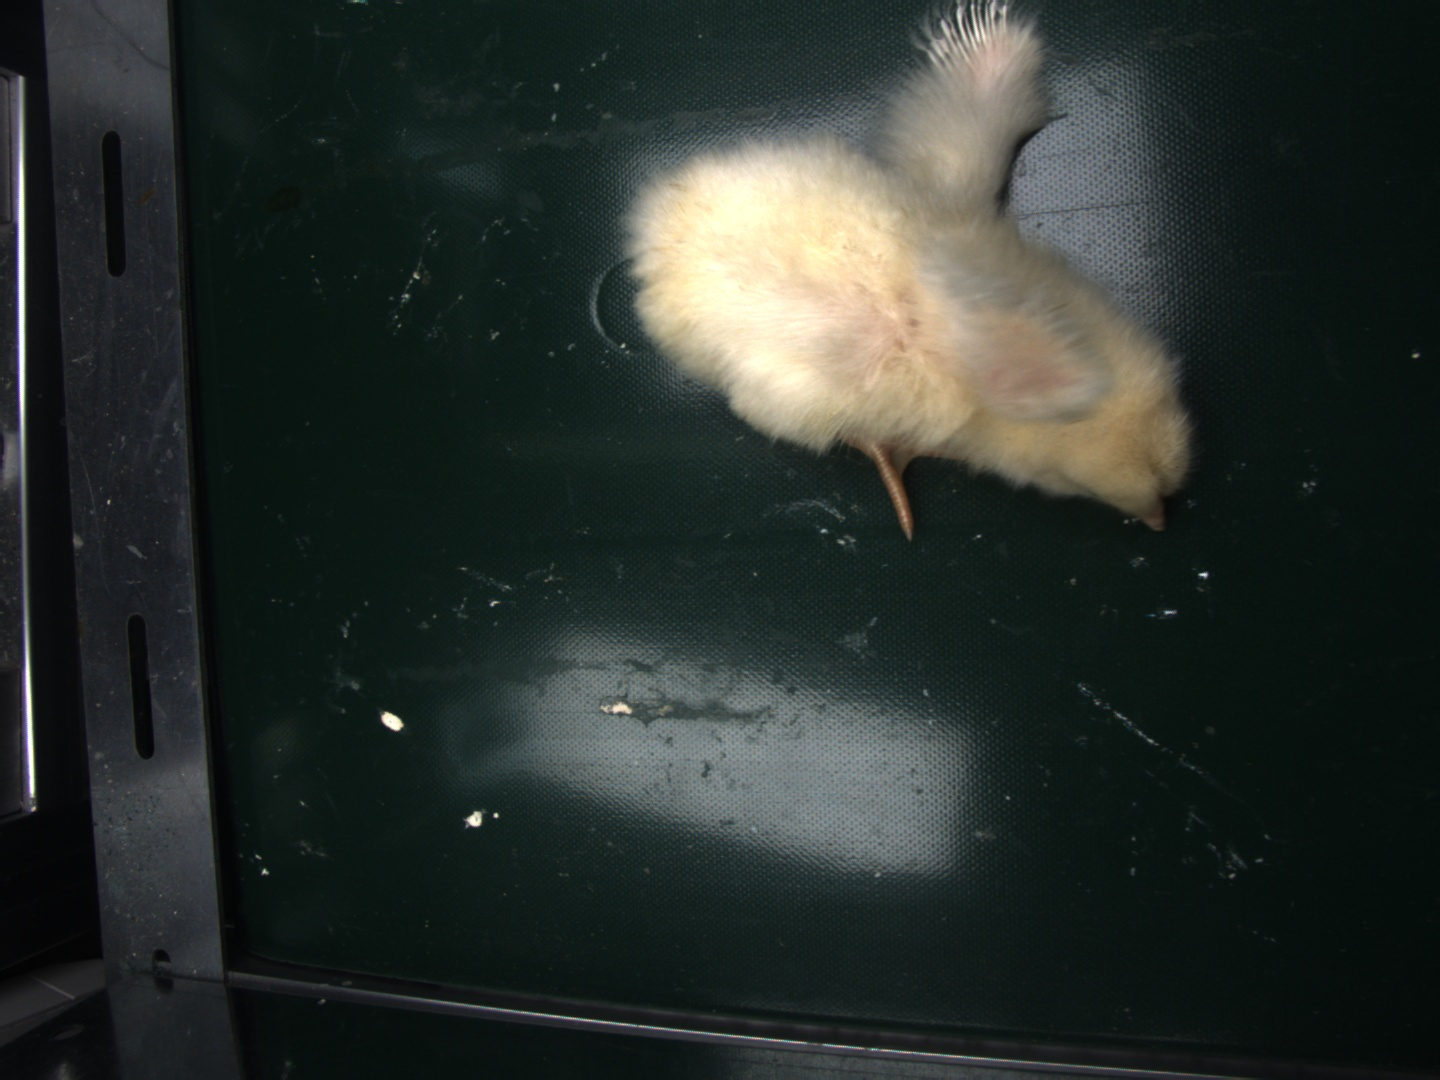male: (932, 1, 1005, 73)
